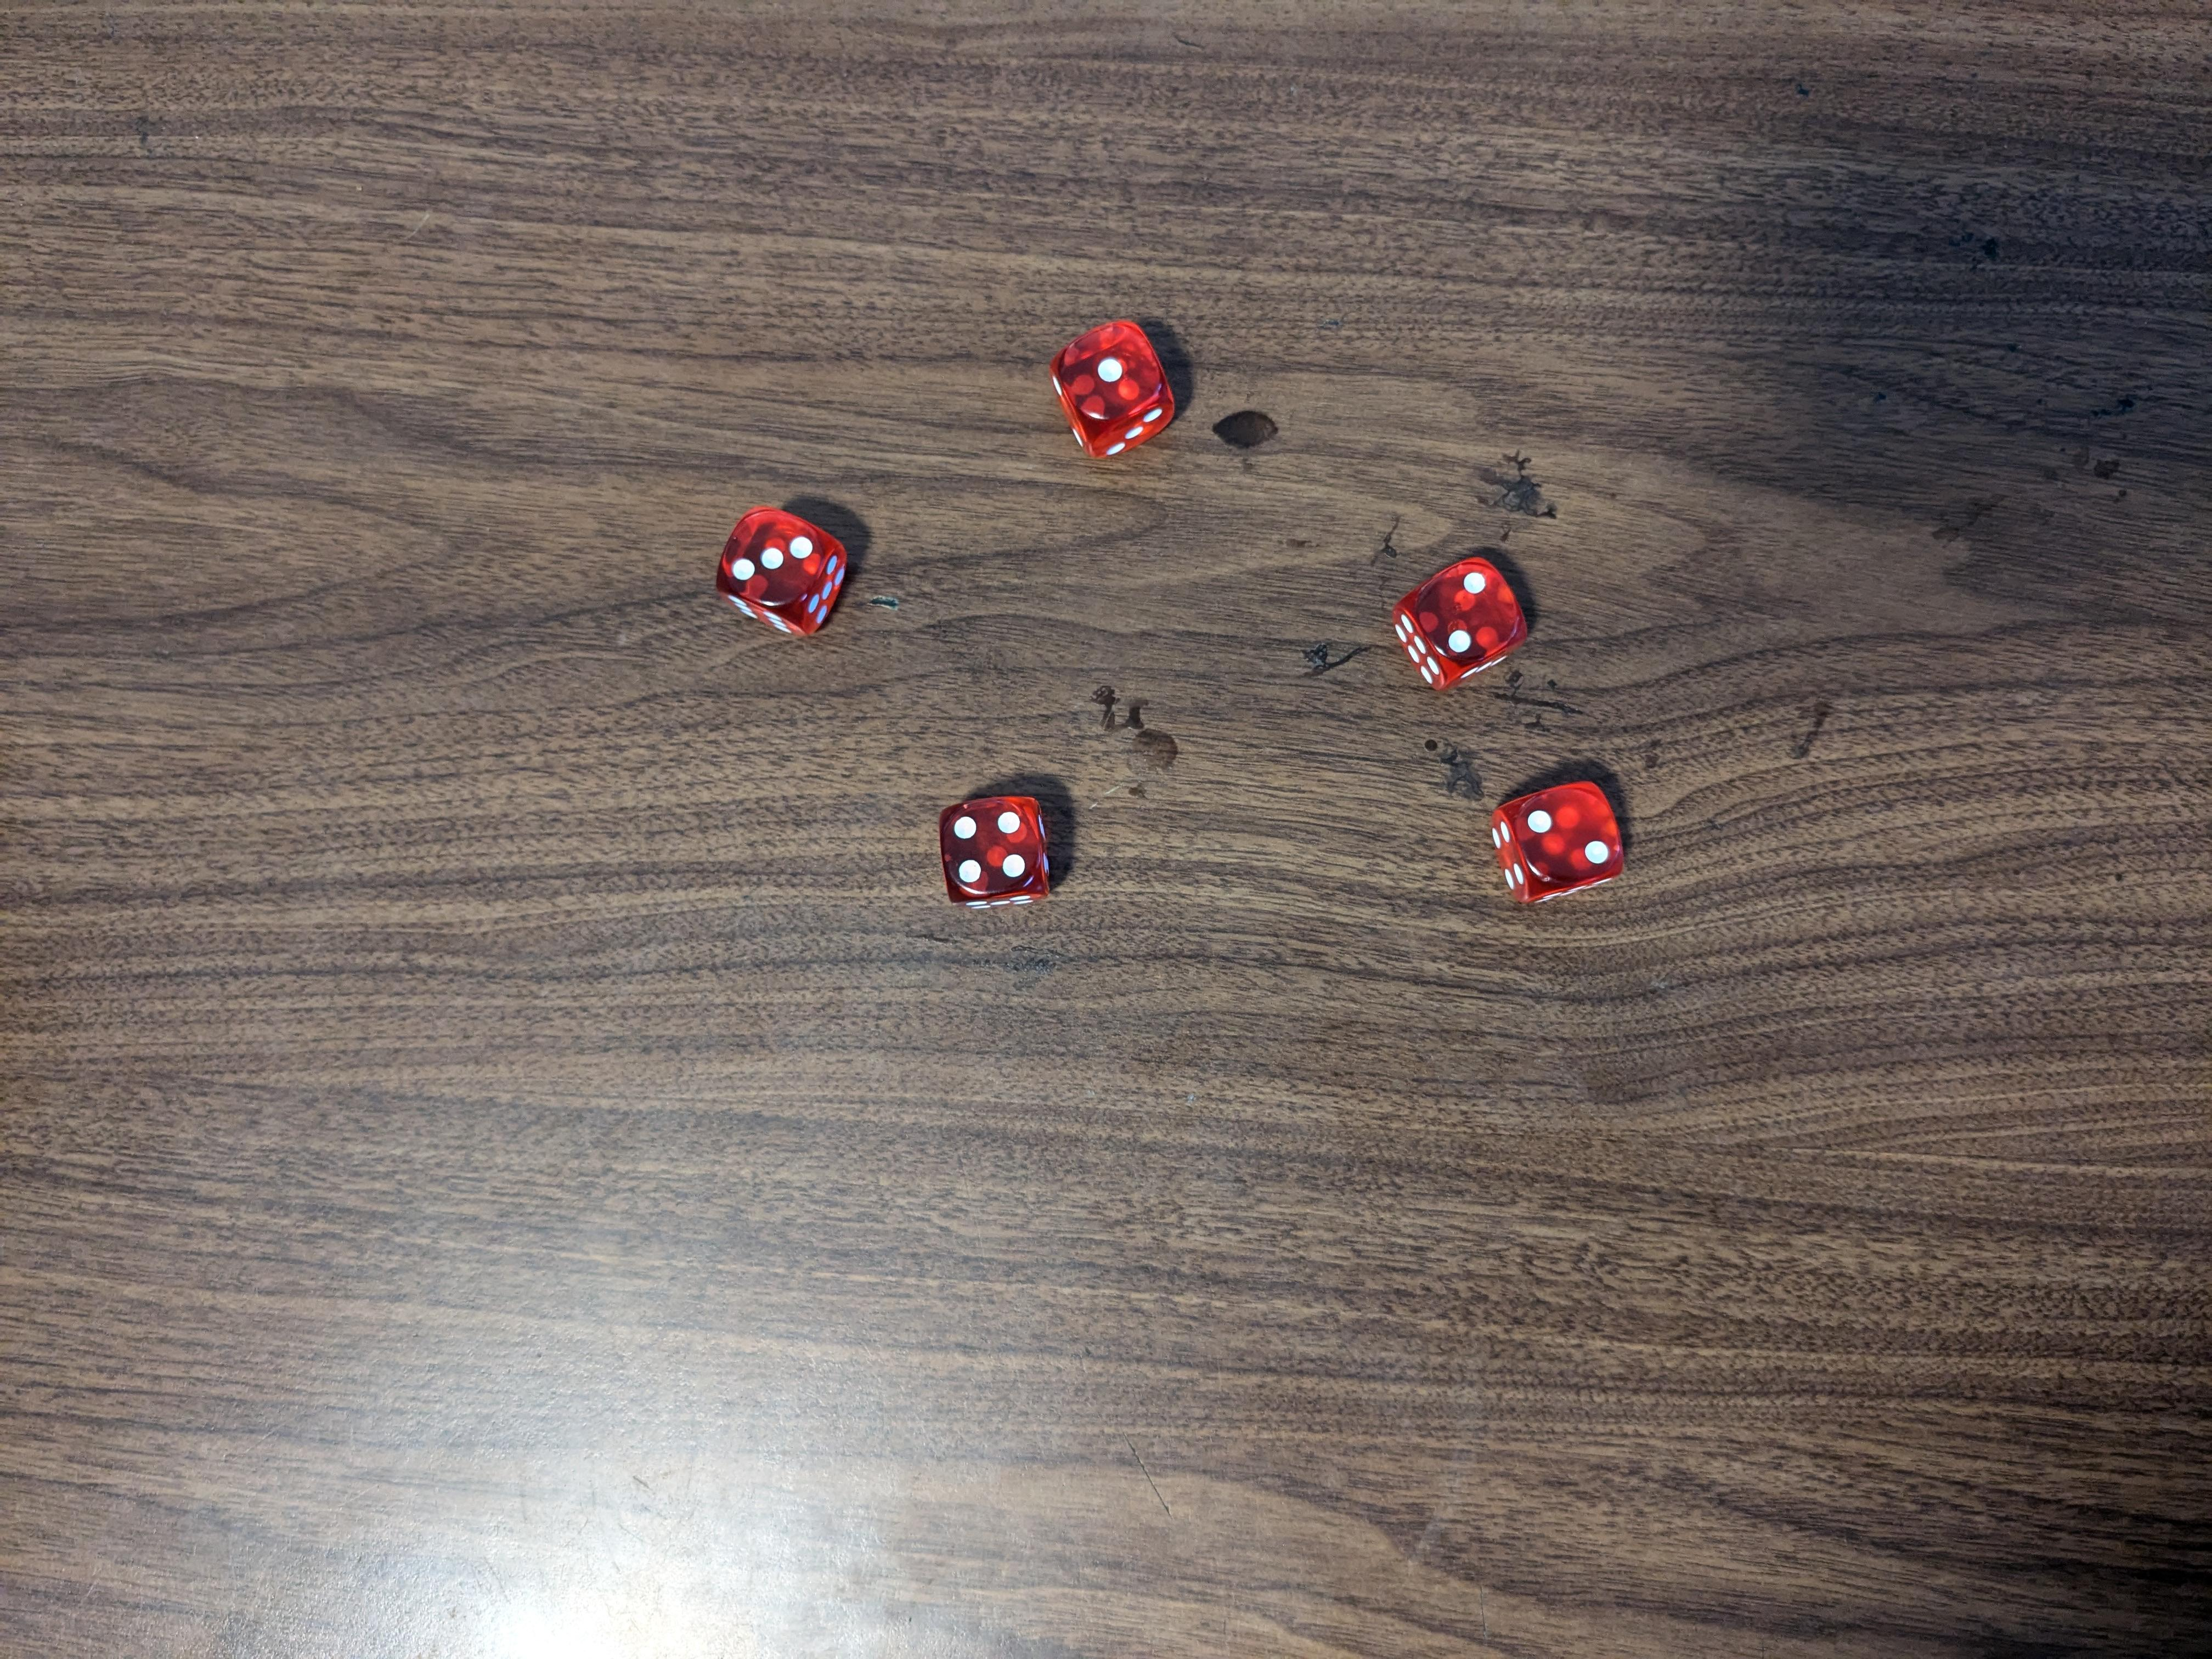four: (937, 795, 1061, 915)
one: (1040, 319, 1184, 465)
three: (712, 507, 859, 641)
two: (1489, 774, 1629, 915), (1395, 551, 1527, 694)
